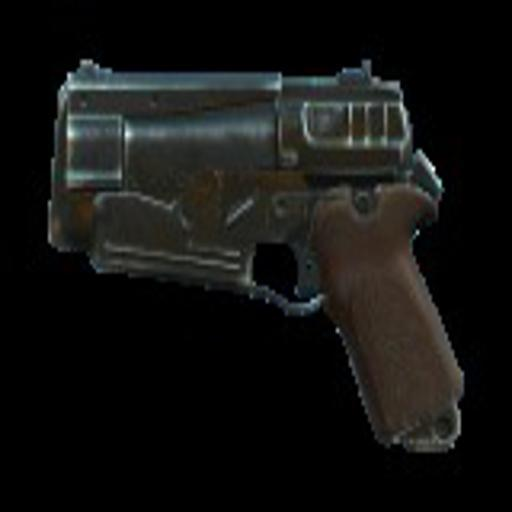Handgun: (37, 41, 466, 455)
